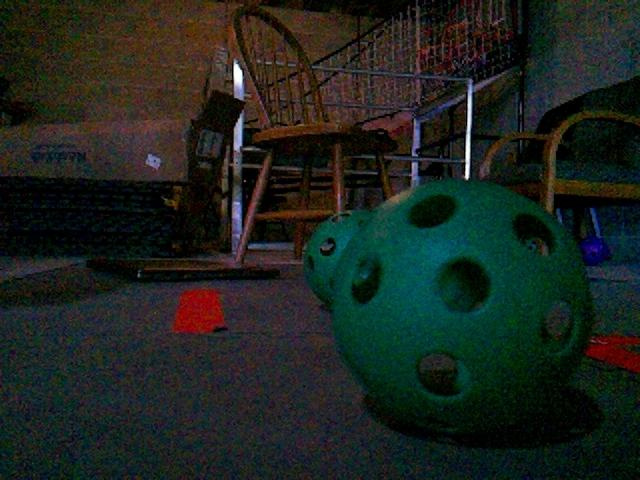Green: (305, 180, 596, 440), (302, 211, 370, 306)
Purple: (578, 234, 615, 266)
